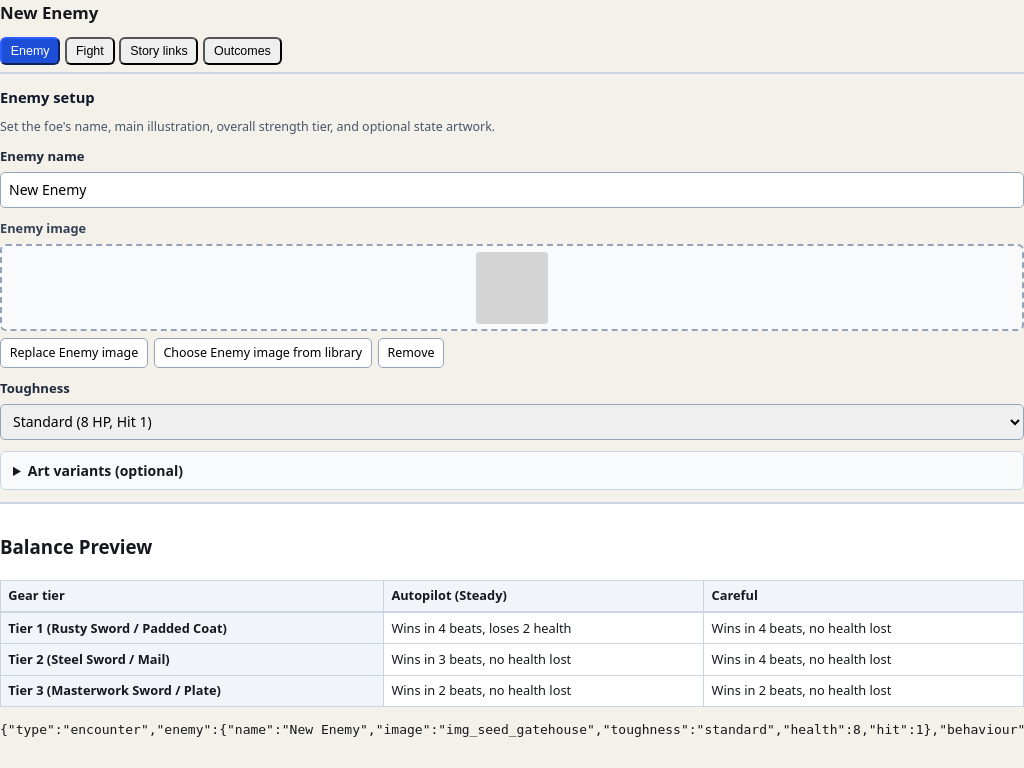
EncounterInspector › switches behaviour to custom and preserves edits when pattern is modified by hand
Click the tab "Fight" at (90, 51), box [65,37,114,65]
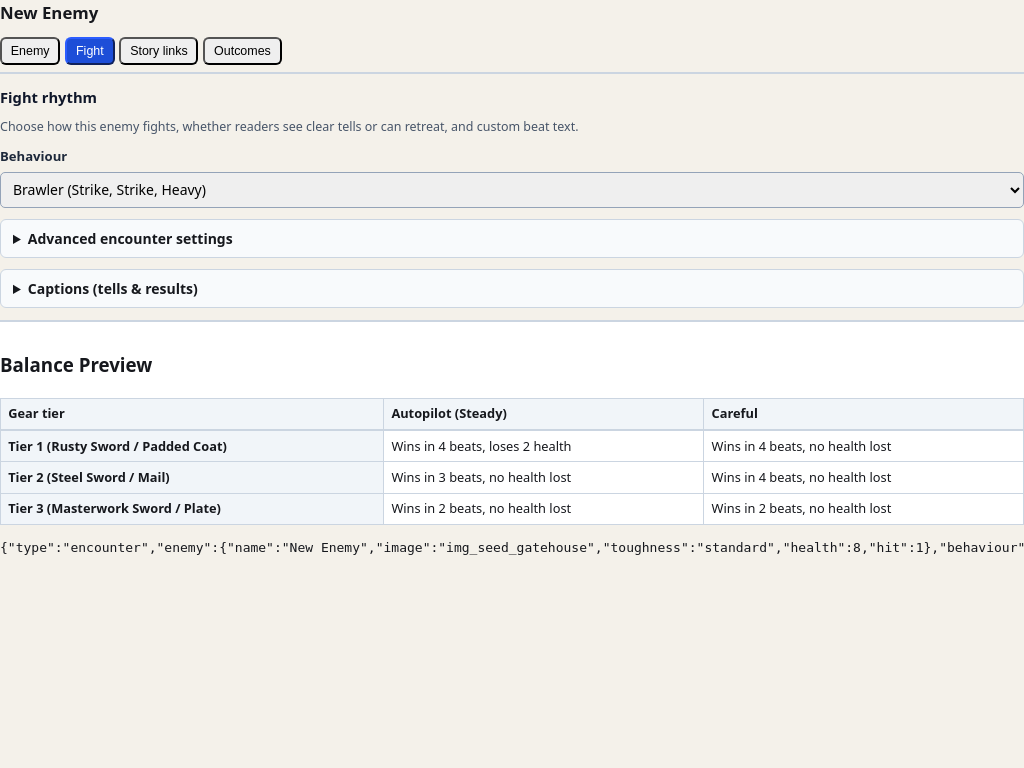
Click the heading "Advanced encounter settings" at (130, 238), box [28,229,233,248]
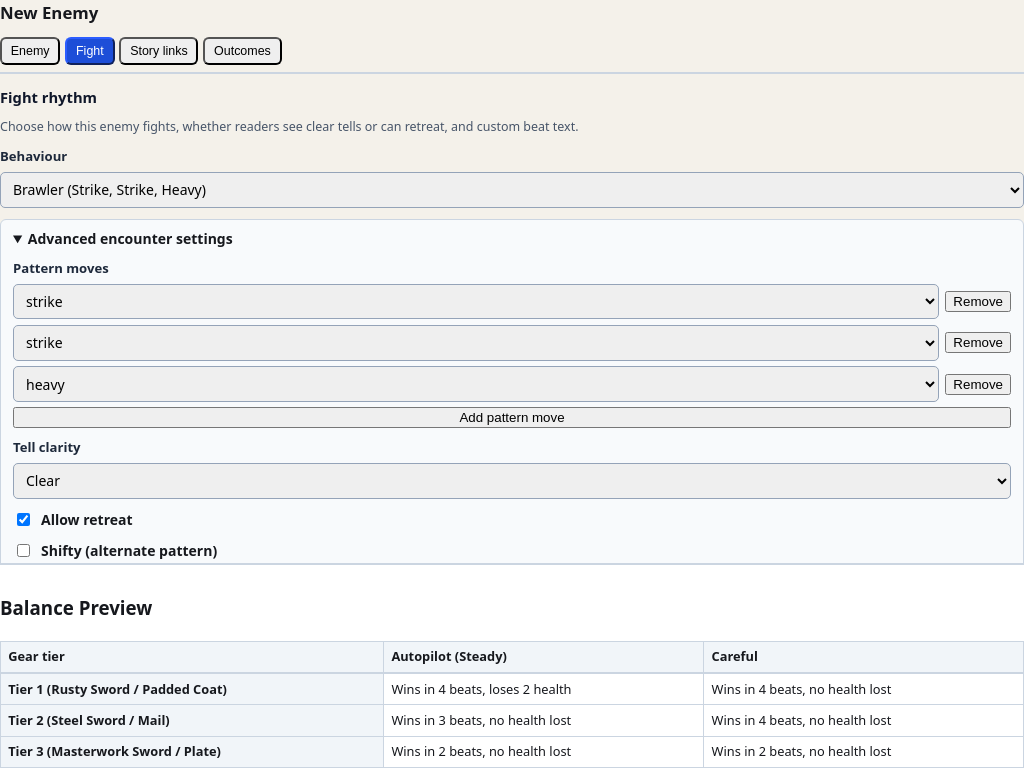
Select "heavy" in the dropdown named "pattern move 1" at (476, 302), box [13,284,939,319]
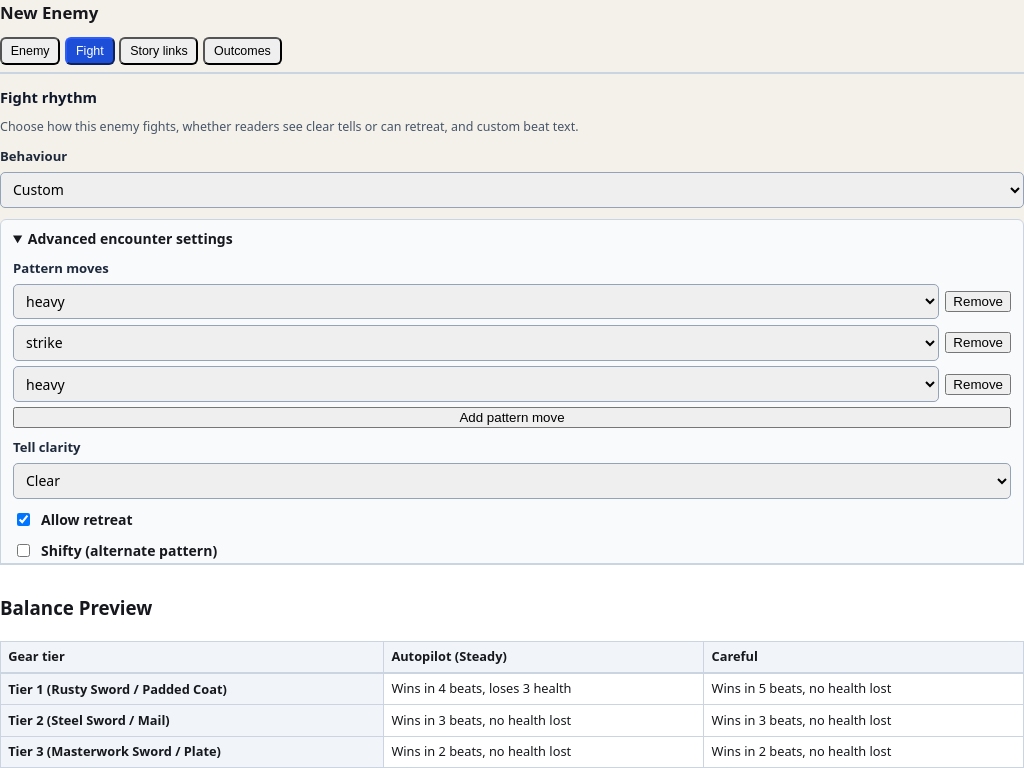
Expected: the dropdown labelled "Behaviour" shows "Custom", [0,172,1023,208]
